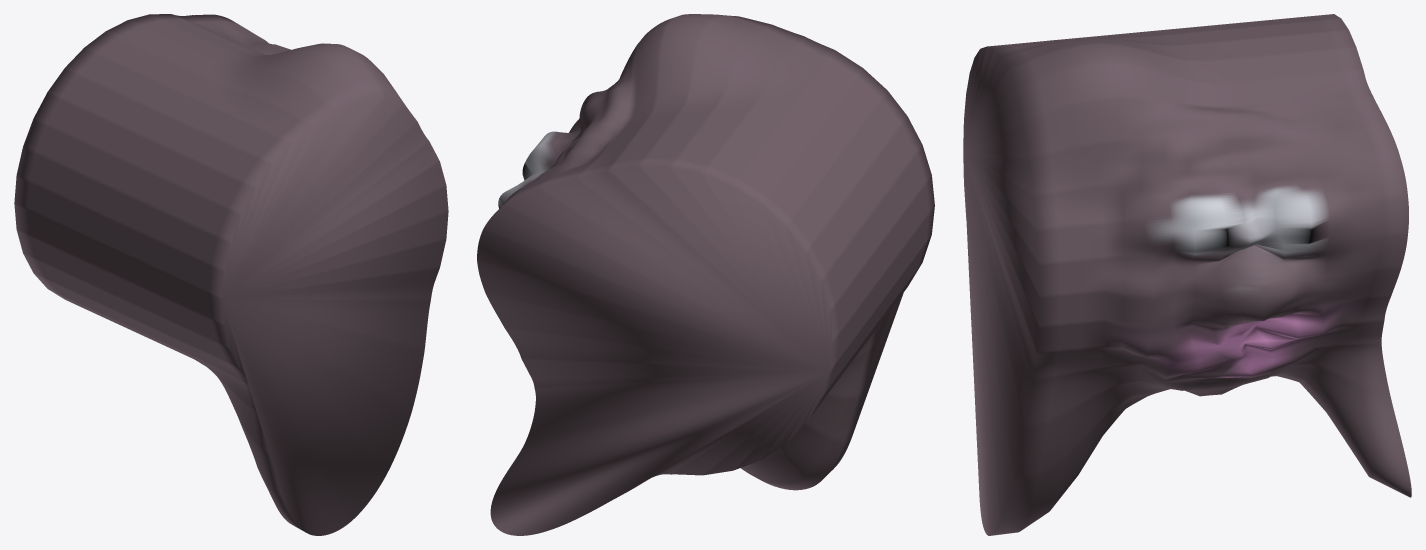
3 renders of one model, left to right at view 1: azimuth 30°, elevation 25°; view 2: azimuth 150°, elevation 25°; view 3: azimuth 270°, elevation 25°, orthographic. The views are drawn at different scales.
Parts seen in each view (by area): view 1: Cylinder; view 2: Cylinder; view 3: Cylinder.
Boxes of the visible parts, <box> form: Cylinder: <box>14,14,448,535</box>; Cylinder: <box>477,14,934,535</box>; Cylinder: <box>963,14,1411,535</box>.
Bounding box in the file's own units: 243 × 313 × 252.
